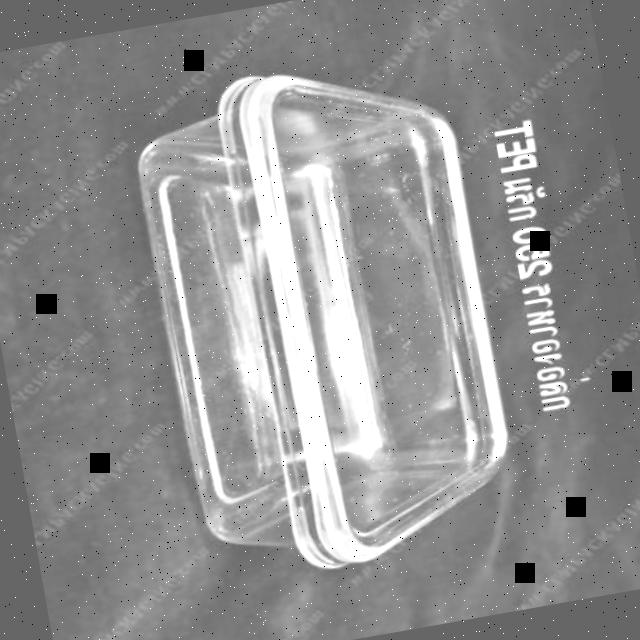plastic_box: (121, 42, 524, 590)
